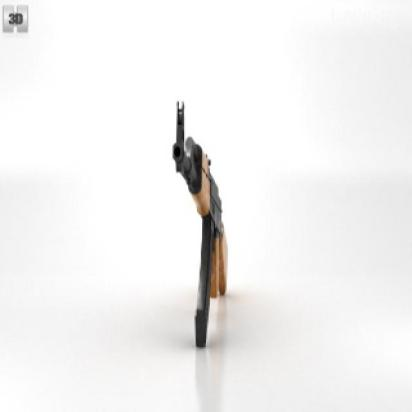Gun: (160, 94, 232, 354)
